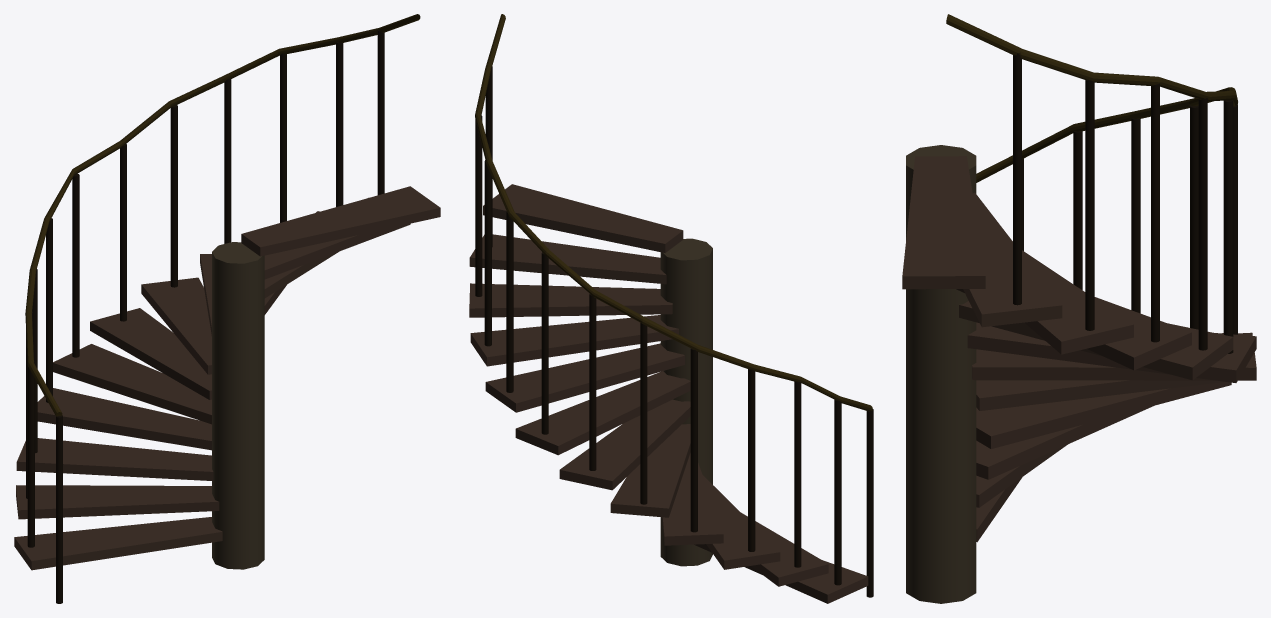
The model's file is Spiral Staircase.fbx.
3 renders of one model, left to right at view 1: azimuth 30°, elevation 25°; view 2: azimuth 150°, elevation 25°; view 3: azimuth 270°, elevation 25°, orthographic. The views are drawn at different scales.
Visible parts, largest first — view 1: StairCase_Pole, Stair13, Stair2, Stair3, Stair4, Stair5, Stair6, StairCase_Pole38, Stair7, Stair8, Stair12, StairCase_Pole6 (+12 smaller); view 2: StairCase_Pole, Stair13, Stair9, Stair8, Stair10, Stair11, Stair12, Stair7, StairCase_Pole38, Stair6, Stair4, Stair5 (+14 smaller); view 3: StairCase_Pole, Stair13, Stair5, Stair12, StairCase_Pole38, Stair11, Stair7, Stair6, Stair8, Stair10, Stair4, Stair9 (+11 smaller).
Part boxes in pixels (left/top/right/bottom): StairCase_Pole: left=212, top=242, right=264, bottom=569; Stair13: left=241, top=186, right=440, bottom=256; Stair2: left=14, top=517, right=222, bottom=570; Stair3: left=16, top=485, right=219, bottom=519; Stair4: left=16, top=438, right=213, bottom=480; Stair5: left=37, top=388, right=211, bottom=450; Stair6: left=53, top=344, right=211, bottom=424; StairCase_Pole38: left=25, top=14, right=420, bottom=416; Stair7: left=90, top=308, right=211, bottom=399; Stair8: left=141, top=277, right=211, bottom=374; Stair12: left=264, top=197, right=410, bottom=279; StairCase_Pole6: left=72, top=173, right=79, bottom=357; StairCase_Pole: left=660, top=238, right=712, bottom=566; Stair13: left=483, top=184, right=683, bottom=252; Stair9: left=485, top=343, right=684, bottom=412; Stair8: left=515, top=371, right=690, bottom=455; Stair10: left=470, top=315, right=678, bottom=366; Stair11: left=469, top=283, right=672, bottom=317; Stair12: left=469, top=234, right=666, bottom=284; Stair7: left=559, top=399, right=690, bottom=490; StairCase_Pole38: left=475, top=14, right=872, bottom=411; Stair6: left=610, top=424, right=690, bottom=517; Stair4: left=702, top=475, right=780, bottom=569; Stair5: left=662, top=453, right=723, bottom=545; StairCase_Pole: left=906, top=145, right=976, bottom=603; Stair13: left=902, top=156, right=985, bottom=289; Stair5: left=976, top=382, right=1231, bottom=448; Stair12: left=963, top=192, right=1062, bottom=327; StairCase_Pole38: left=946, top=14, right=1237, bottom=182; Stair11: left=1022, top=250, right=1133, bottom=354; Stair7: left=972, top=332, right=1256, bottom=380; Stair6: left=976, top=333, right=1224, bottom=410; Stair8: left=967, top=322, right=1256, bottom=382; Stair10: left=956, top=289, right=1191, bottom=370; Stair4: left=976, top=406, right=1153, bottom=479; Stair9: left=959, top=301, right=1233, bottom=380.
Size of the model in its own units: 23.67 by 29.47 by 13.57.
